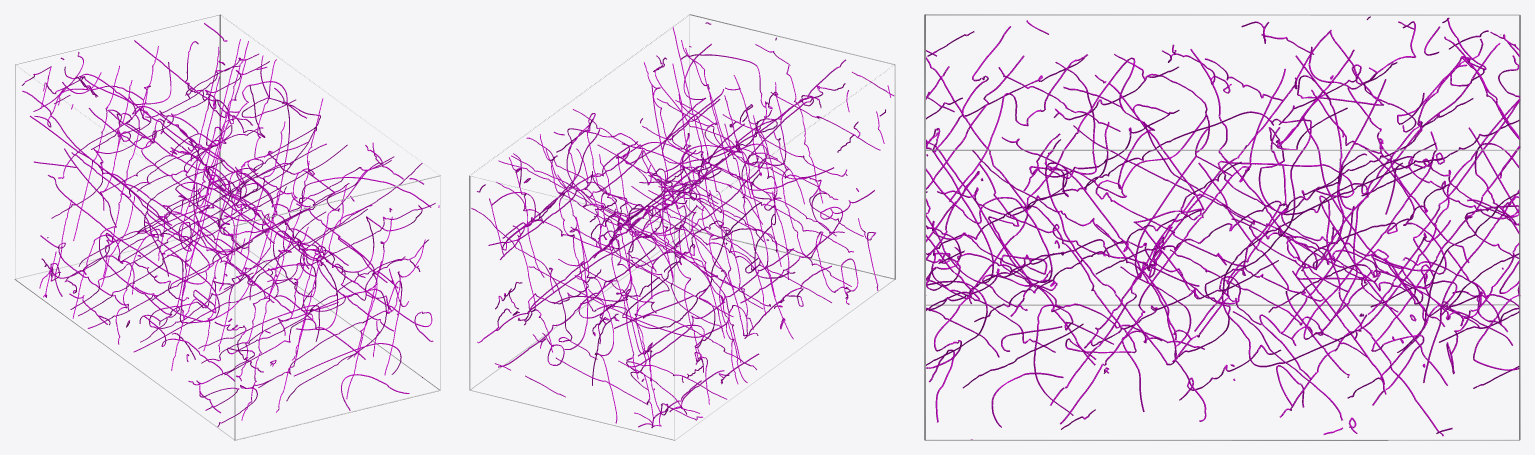
3 renders of one model, left to right at view 1: azimuth 30°, elevation 25°; view 2: azimuth 150°, elevation 25°; view 3: azimuth 270°, elevation 25°, orthographic. The views are drawn at different scales.
Visible parts, largest first — view 1: Shape_IndexedLineSet.001, Shape_IndexedLineSet; view 2: Shape_IndexedLineSet.001, Shape_IndexedLineSet; view 3: Shape_IndexedLineSet.001, Shape_IndexedLineSet.
Part boxes in pixels (box(x1,y1,x2,y2)): Shape_IndexedLineSet.001: box(21, 23, 439, 426); Shape_IndexedLineSet: box(14, 14, 440, 440); Shape_IndexedLineSet.001: box(471, 22, 894, 427); Shape_IndexedLineSet: box(469, 14, 895, 440); Shape_IndexedLineSet.001: box(926, 16, 1520, 439); Shape_IndexedLineSet: box(924, 14, 1520, 440).
Bounding box in the file's own units: 239 × 239 × 443.
